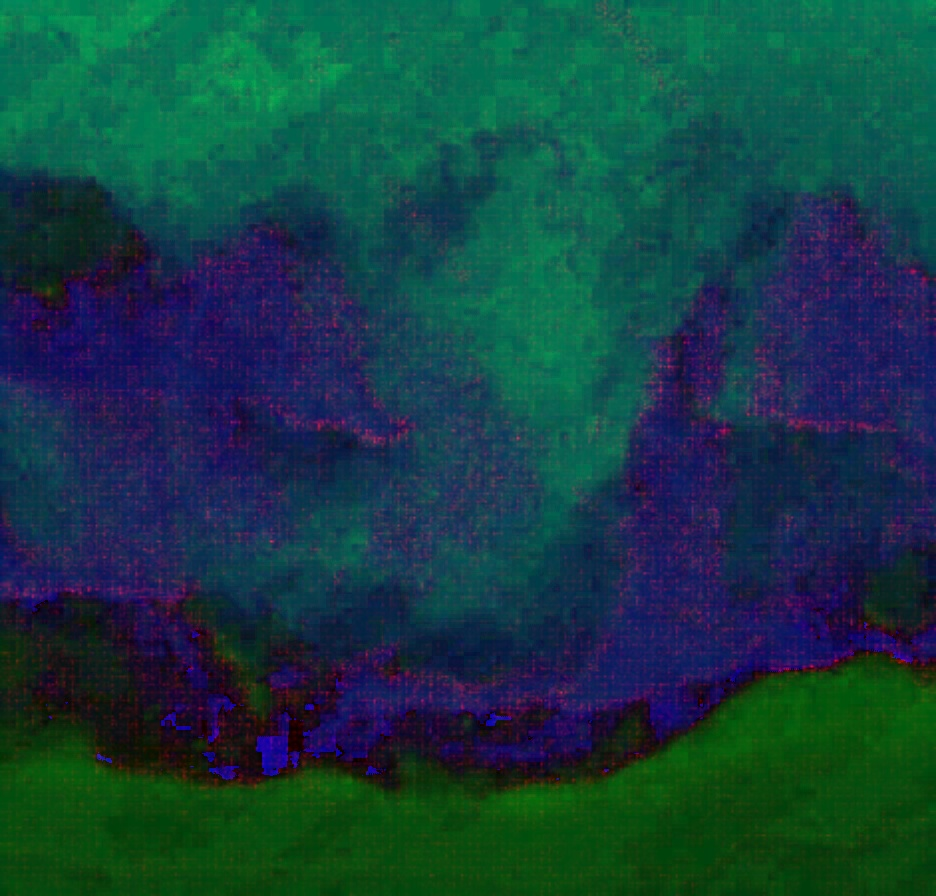rip_current: (385, 243, 717, 724)
